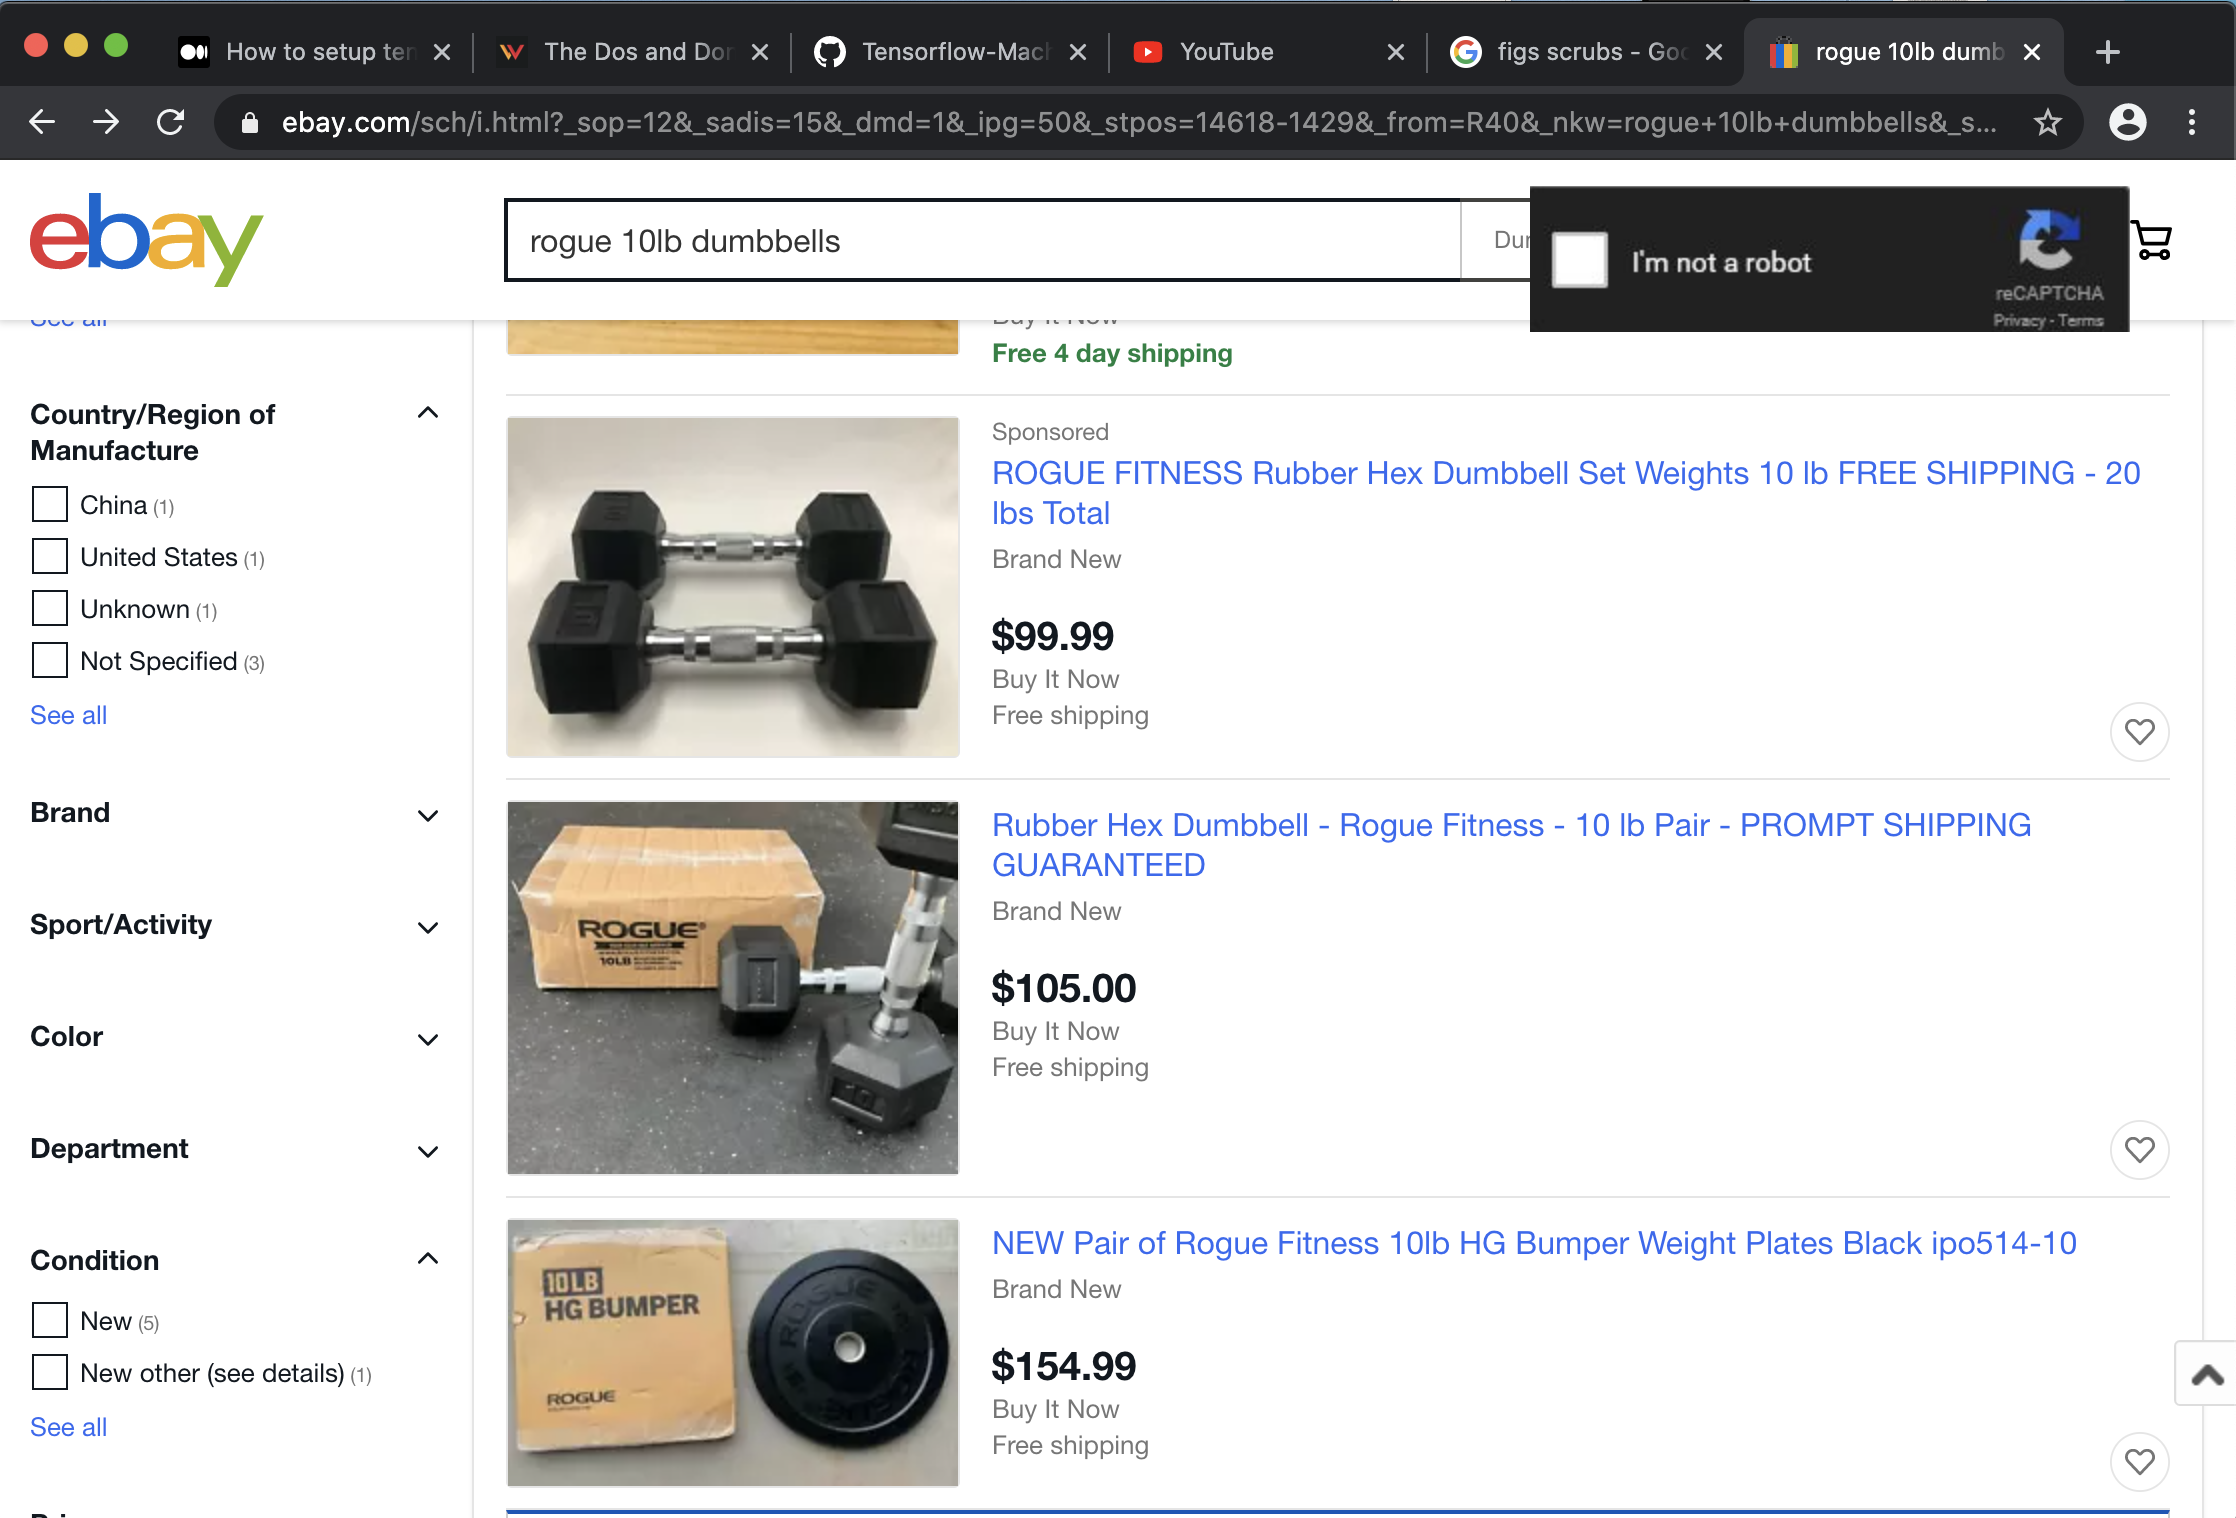captcha: (1521, 178, 2148, 346)
